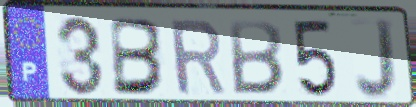3: (53, 13, 106, 99)
5: (291, 17, 339, 99)
B: (109, 16, 169, 98), (227, 18, 285, 97)
J: (352, 16, 398, 102)
R: (166, 17, 229, 98)
